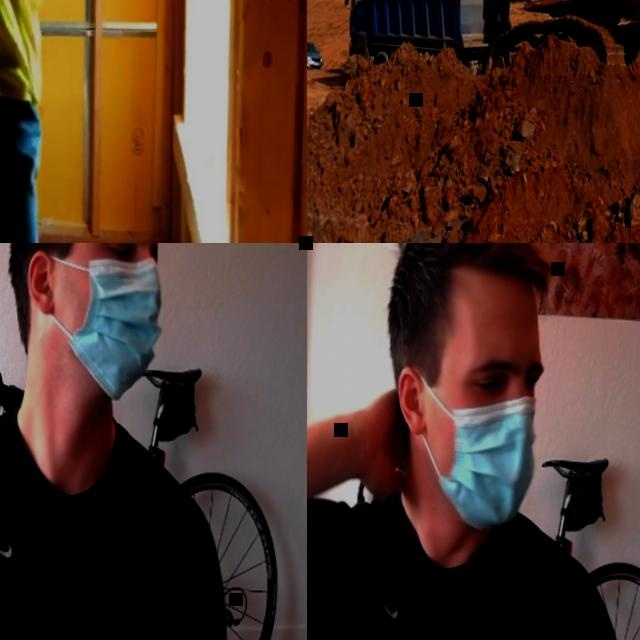Mask: (410, 372, 536, 531), (24, 249, 160, 396)
NO-Hardhat: (387, 243, 540, 330)
NO-Safety Vest: (0, 414, 182, 640), (331, 490, 588, 640)
Person: (307, 243, 640, 640), (0, 243, 236, 640), (0, 0, 290, 243)
machinery: (413, 0, 640, 74), (343, 0, 512, 68)
vehicle: (307, 37, 323, 68)
